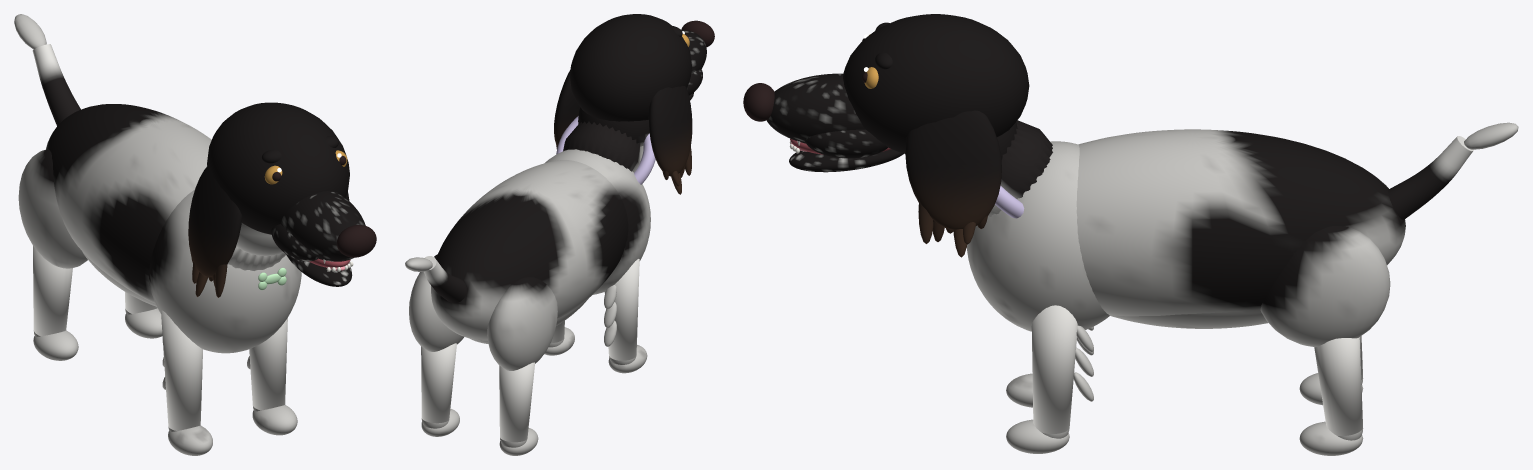
Rendered from perro.glb.
3 renders of one model, left to right at view 1: azimuth 30°, elevation 25°; view 2: azimuth 150°, elevation 25°; view 3: azimuth 270°, elevation 25°, orthographic. The views are drawn at different scales.
Parts seen in each view (by area): view 1: Cuerpo, Cabeza, Pecho, MusloTraIzq, OrejaIzq, PataDelIzq, Hocico, PataTraIzq, PataDelDer, Cola, PieDelDer, Nariz (+9 smaller); view 2: Cuerpo, Cabeza, MusloTraIzq, Pecho, OrejaIzq, PataTraIzq, PataTraDer, Cuello, MusloTraDer, PataDelIzq, Cola, OrejaDer (+9 smaller); view 3: Cuerpo, Cabeza, Pecho, MusloTraDer, OrejaDer, PataDelDer, Hocico, PataTraDer, Cola, Cuello, Barriga, MofleteDer (+5 smaller).
Part boxes in pixels (<box>): Cuerpo: <box>46,104,211,303</box>; Cabeza: <box>207,102,349,234</box>; Pecho: <box>149,189,301,353</box>; MusloTraIzq: <box>18,149,87,268</box>; OrejaIzq: <box>188,165,242,277</box>; PataDelIzq: <box>161,310,202,430</box>; Hocico: <box>280,191,365,261</box>; PataTraIzq: <box>33,246,72,336</box>; PataDelDer: <box>249,317,287,410</box>; Cola: <box>32,44,80,125</box>; PieDelDer: <box>252,405,297,435</box>; Nariz: <box>336,225,376,257</box>; Cuerpo: <box>431,160,628,340</box>; Cabeza: <box>570,14,691,121</box>; MusloTraIzq: <box>487,277,557,370</box>; Pecho: <box>545,149,650,294</box>; OrejaIzq: <box>648,86,692,176</box>; PataTraIzq: <box>499,362,534,442</box>; PataTraDer: <box>421,343,456,423</box>; Cuello: <box>563,121,643,172</box>; MusloTraDer: <box>409,254,463,351</box>; PataDelIzq: <box>604,259,639,360</box>; Cola: <box>424,256,466,303</box>; OrejaDer: <box>554,70,580,145</box>; Cuerpo: <box>1076,129,1405,316</box>; Cabeza: <box>843,14,1029,153</box>; Pecho: <box>966,141,1109,331</box>; MusloTraDer: <box>1260,226,1390,346</box>; OrejaDer: <box>905,110,1001,230</box>; PataDelDer: <box>1031,305,1077,433</box>; Hocico: <box>766,73,865,143</box>; PataTraDer: <box>1314,337,1362,435</box>; Cola: <box>1388,136,1473,219</box>; Cuello: <box>988,120,1052,216</box>; Barriga: <box>1109,309,1267,328</box>; MofleteDer: <box>805,129,887,158</box>.
Bounding box in the file's own units: 0.84 × 1.97 × 3.41.
